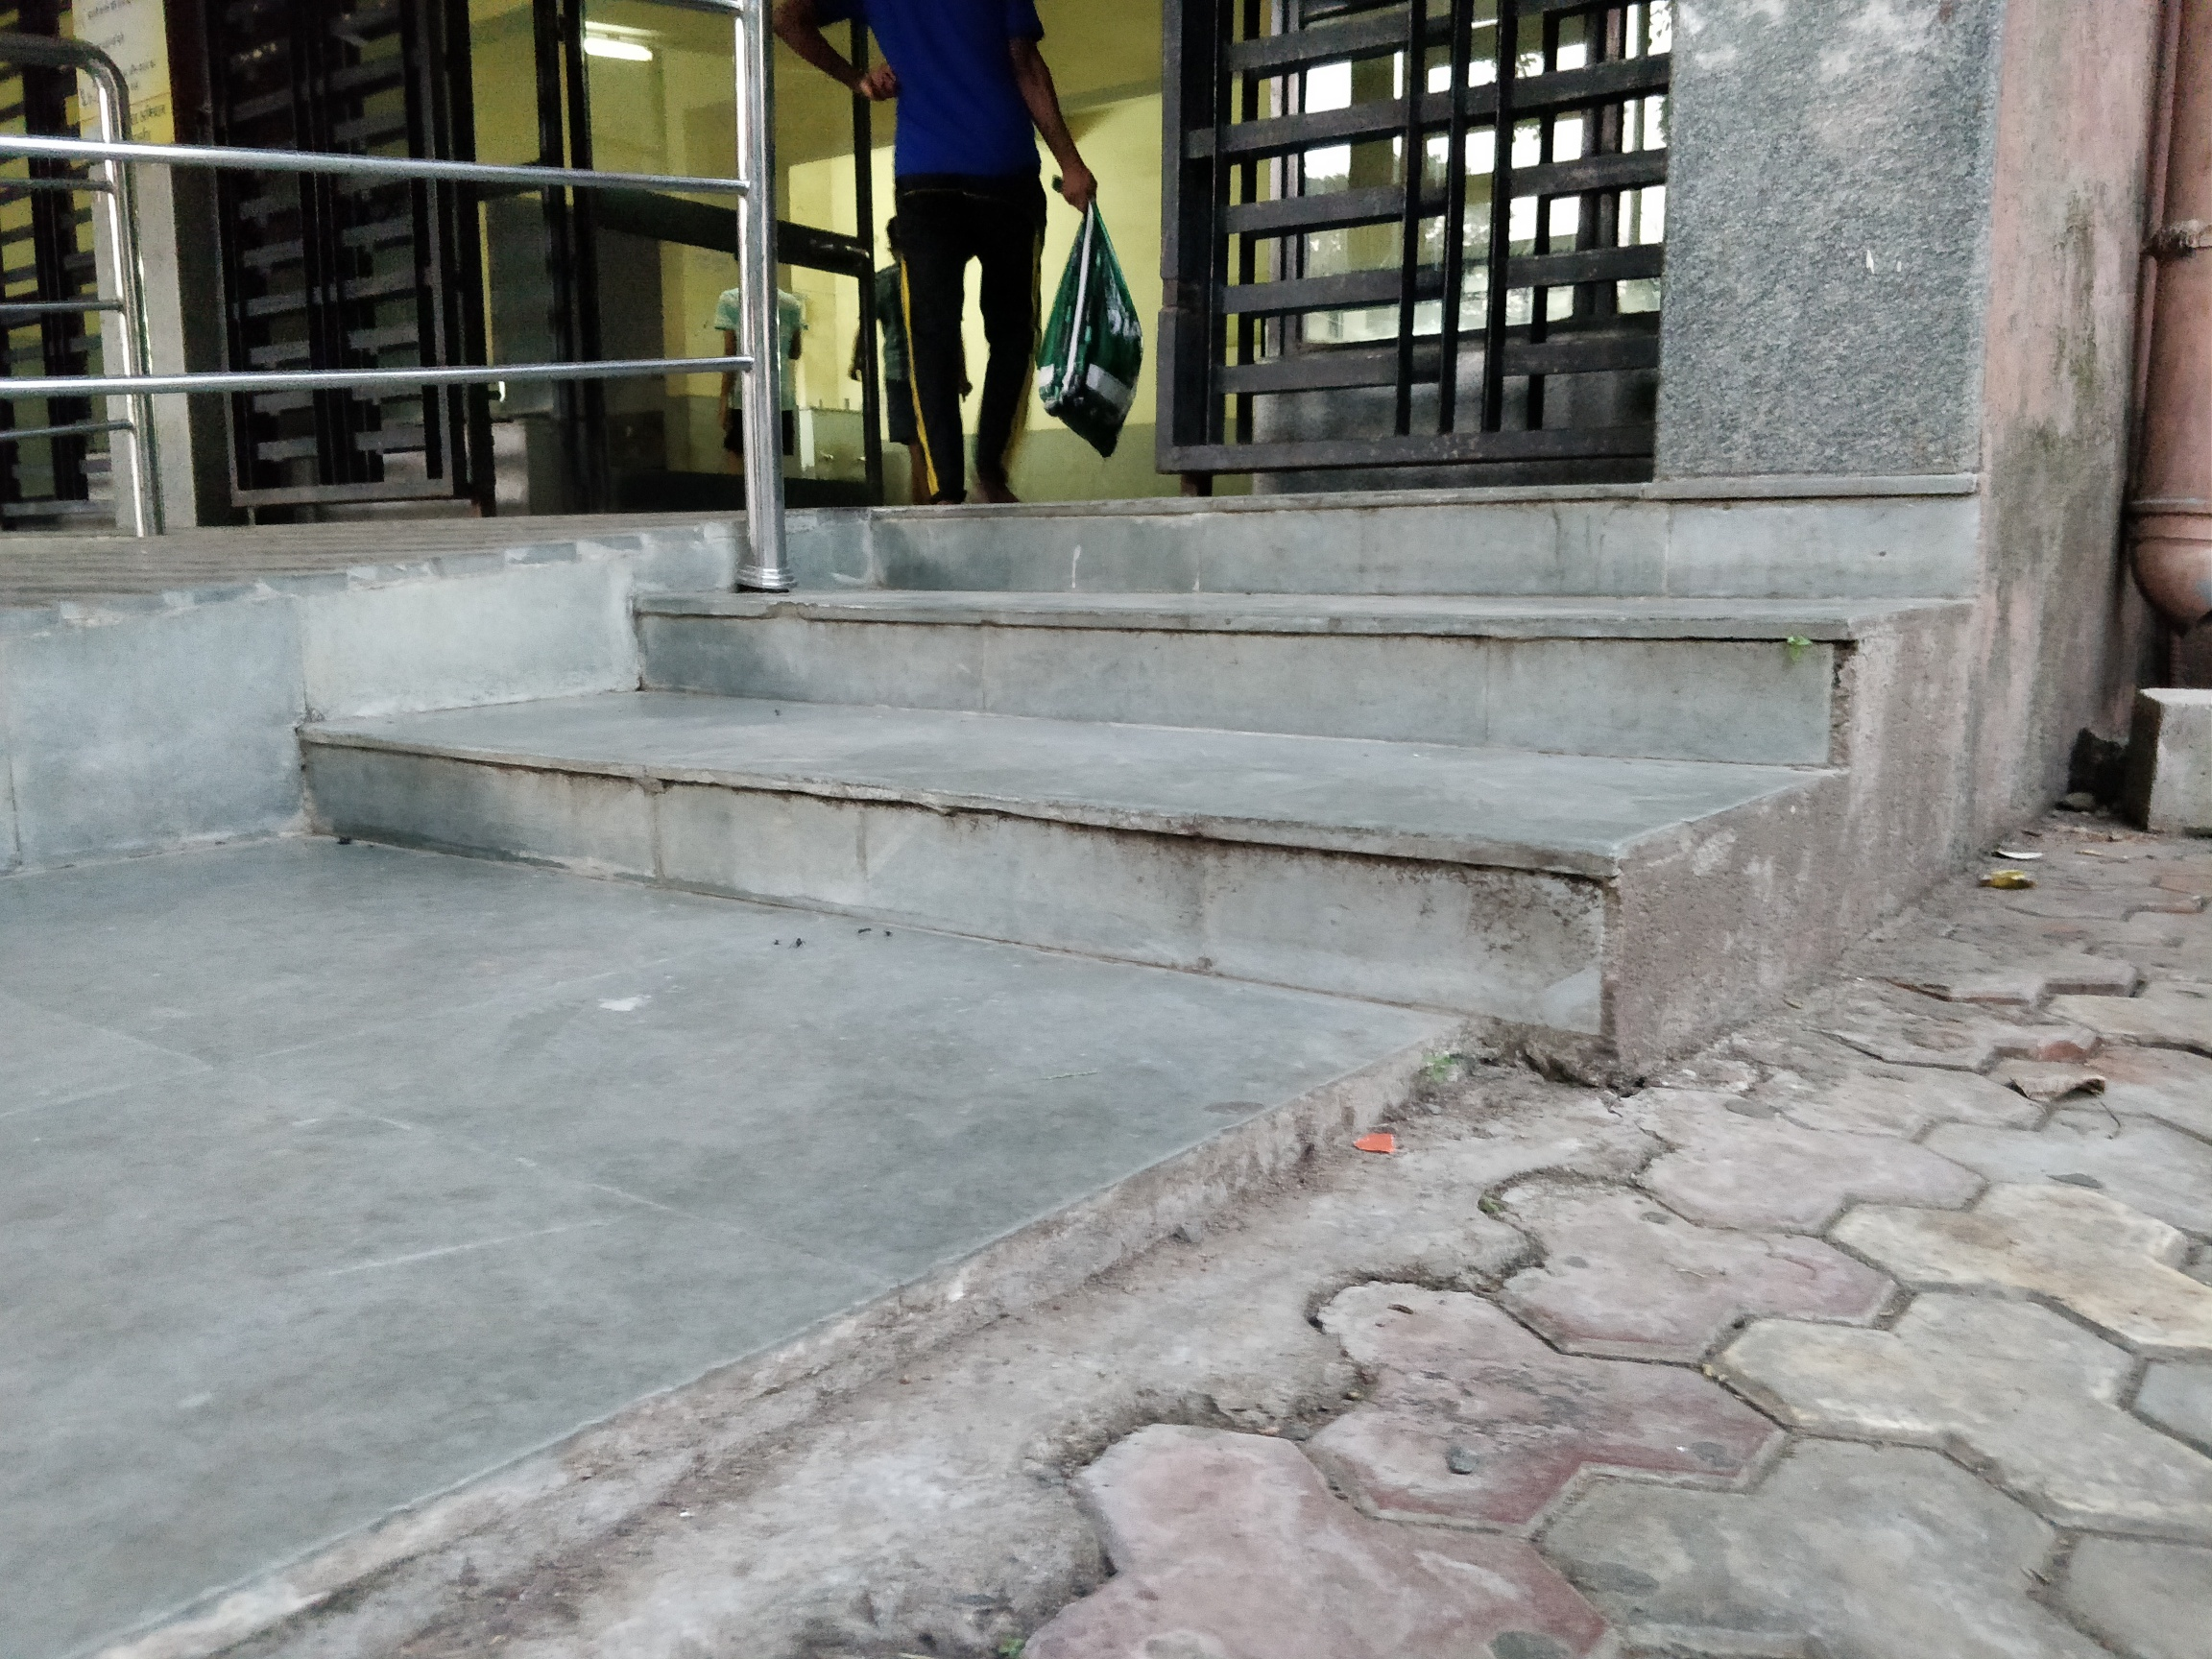stairs_up: (284, 446, 1975, 1061)
